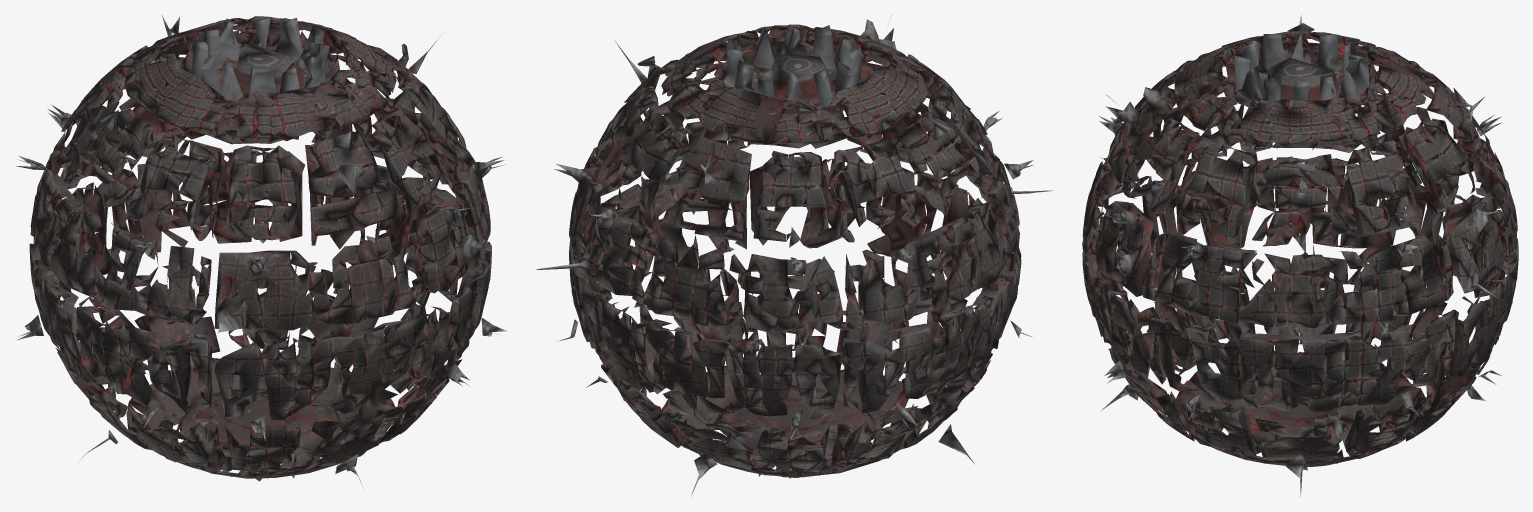
File: worldbreaker.glb
3 views of the same model, side by side, from view 1: azimuth 30°, elevation 25°; view 2: azimuth 150°, elevation 25°; view 3: azimuth 270°, elevation 25° (orthographic). The views are drawn at different scales.
Bounding box in the file's own units: 1.73 × 1.7 × 1.73.
1 material, 1 textured.
